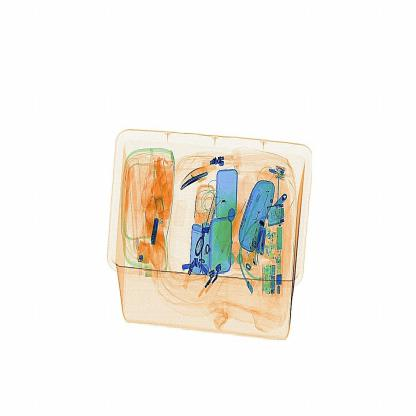pliers: (176, 157, 220, 191)
